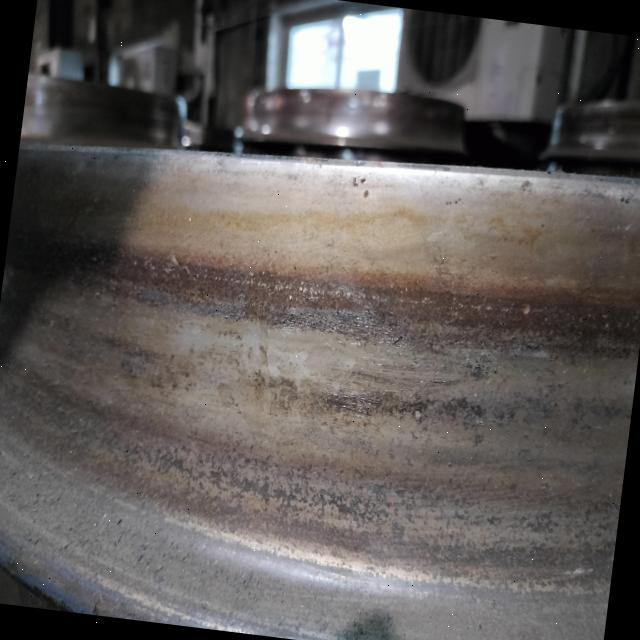Blue hole: (347, 173, 376, 203)
flat: (201, 277, 527, 461)
